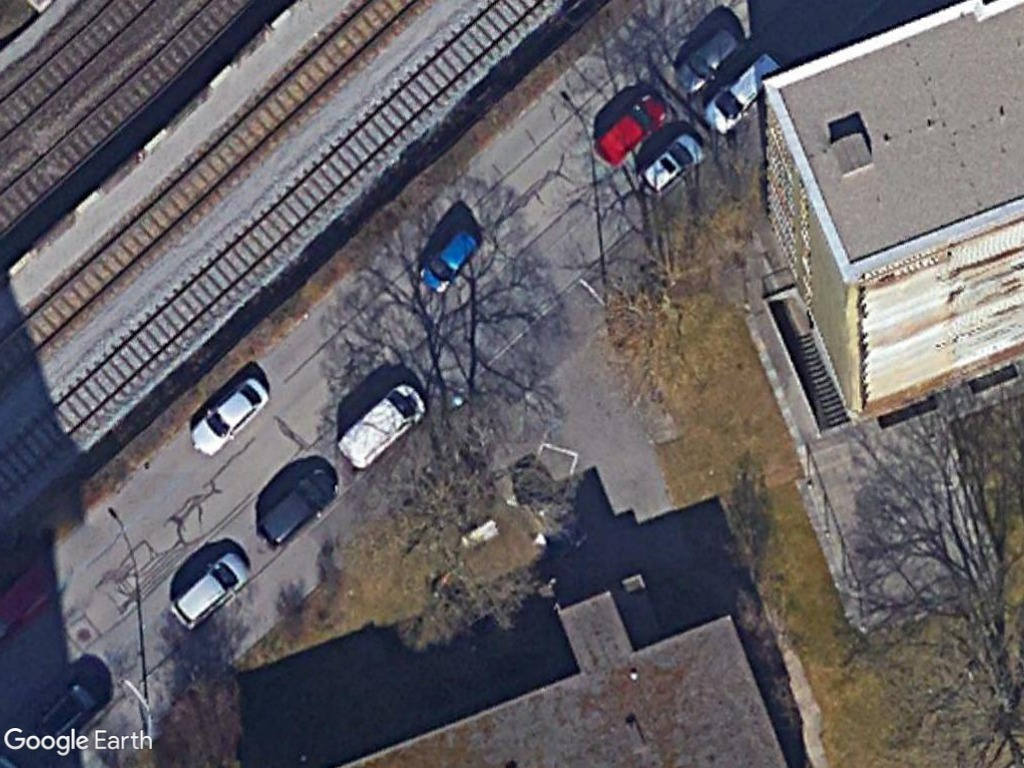car: (254, 465, 341, 549), (166, 548, 250, 632), (189, 372, 269, 455), (591, 87, 668, 170), (673, 28, 746, 93), (417, 227, 483, 296), (636, 133, 705, 198)
van: (334, 378, 428, 470)
